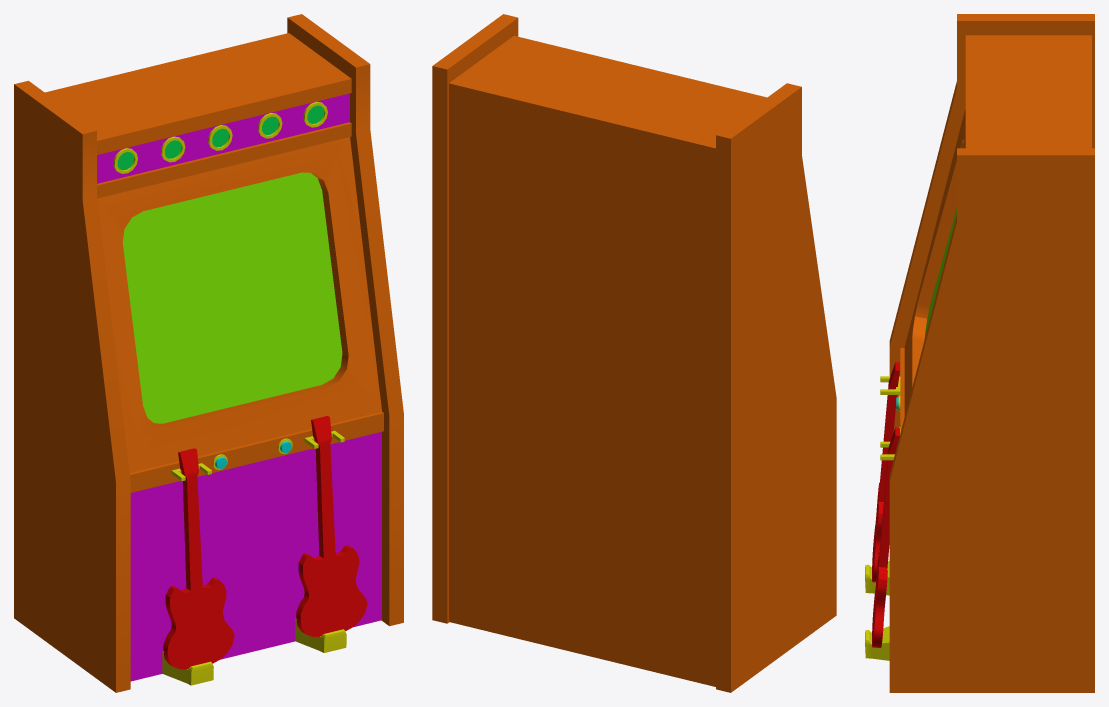
Rendered from GuitarHeroFull.fbx.
3 views of the same model, side by side, from view 1: azimuth 30°, elevation 25°; view 2: azimuth 150°, elevation 25°; view 3: azimuth 270°, elevation 25° (orthographic). The views are drawn at different scales.
Parts seen in each view (by area): view 1: polySurface44; view 2: polySurface44; view 3: polySurface44.
Part boxes in pixels (left/top/right/bottom): polySurface44: left=14, top=14, right=403, bottom=692; polySurface44: left=432, top=14, right=836, bottom=692; polySurface44: left=865, top=14, right=1094, bottom=692.
Size of the model in its own units: 37.8 by 67.05 by 25.99.
